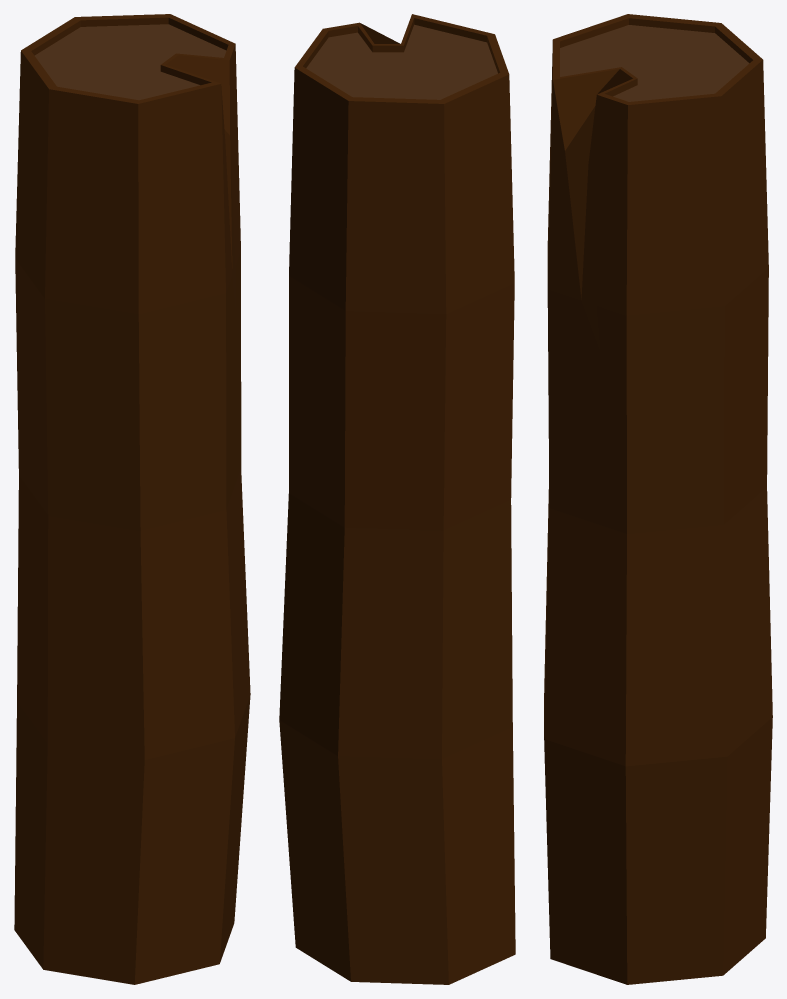
The model's file is wood.fbx.
3 views of the same model, side by side, from view 1: azimuth 30°, elevation 25°; view 2: azimuth 150°, elevation 25°; view 3: azimuth 270°, elevation 25° (orthographic).
Visible parts, largest first — view 1: Wood; view 2: Wood; view 3: Wood.
Part boxes in pixels (x1,y1,x2,y2): Wood: (14,14,250,984); Wood: (279,14,515,984); Wood: (544,14,772,984).
Size of the model in its own units: 41.26 by 168 by 39.53.
